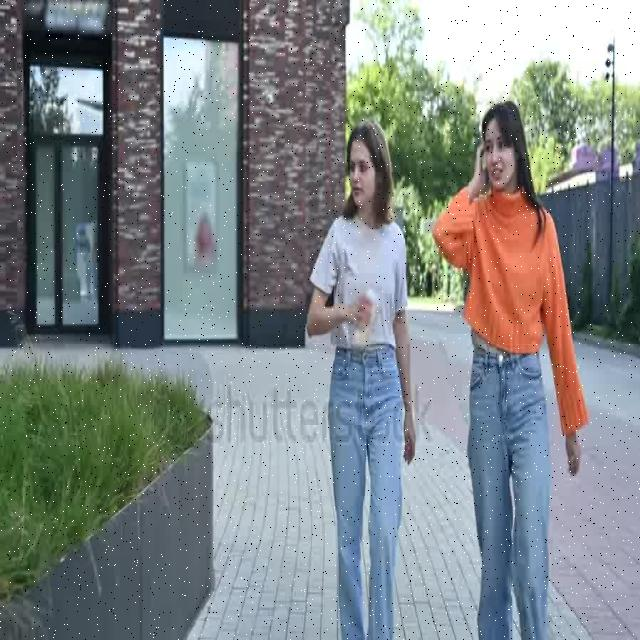human: (433, 104, 592, 640), (301, 116, 424, 640)
trash: (354, 282, 379, 350)
